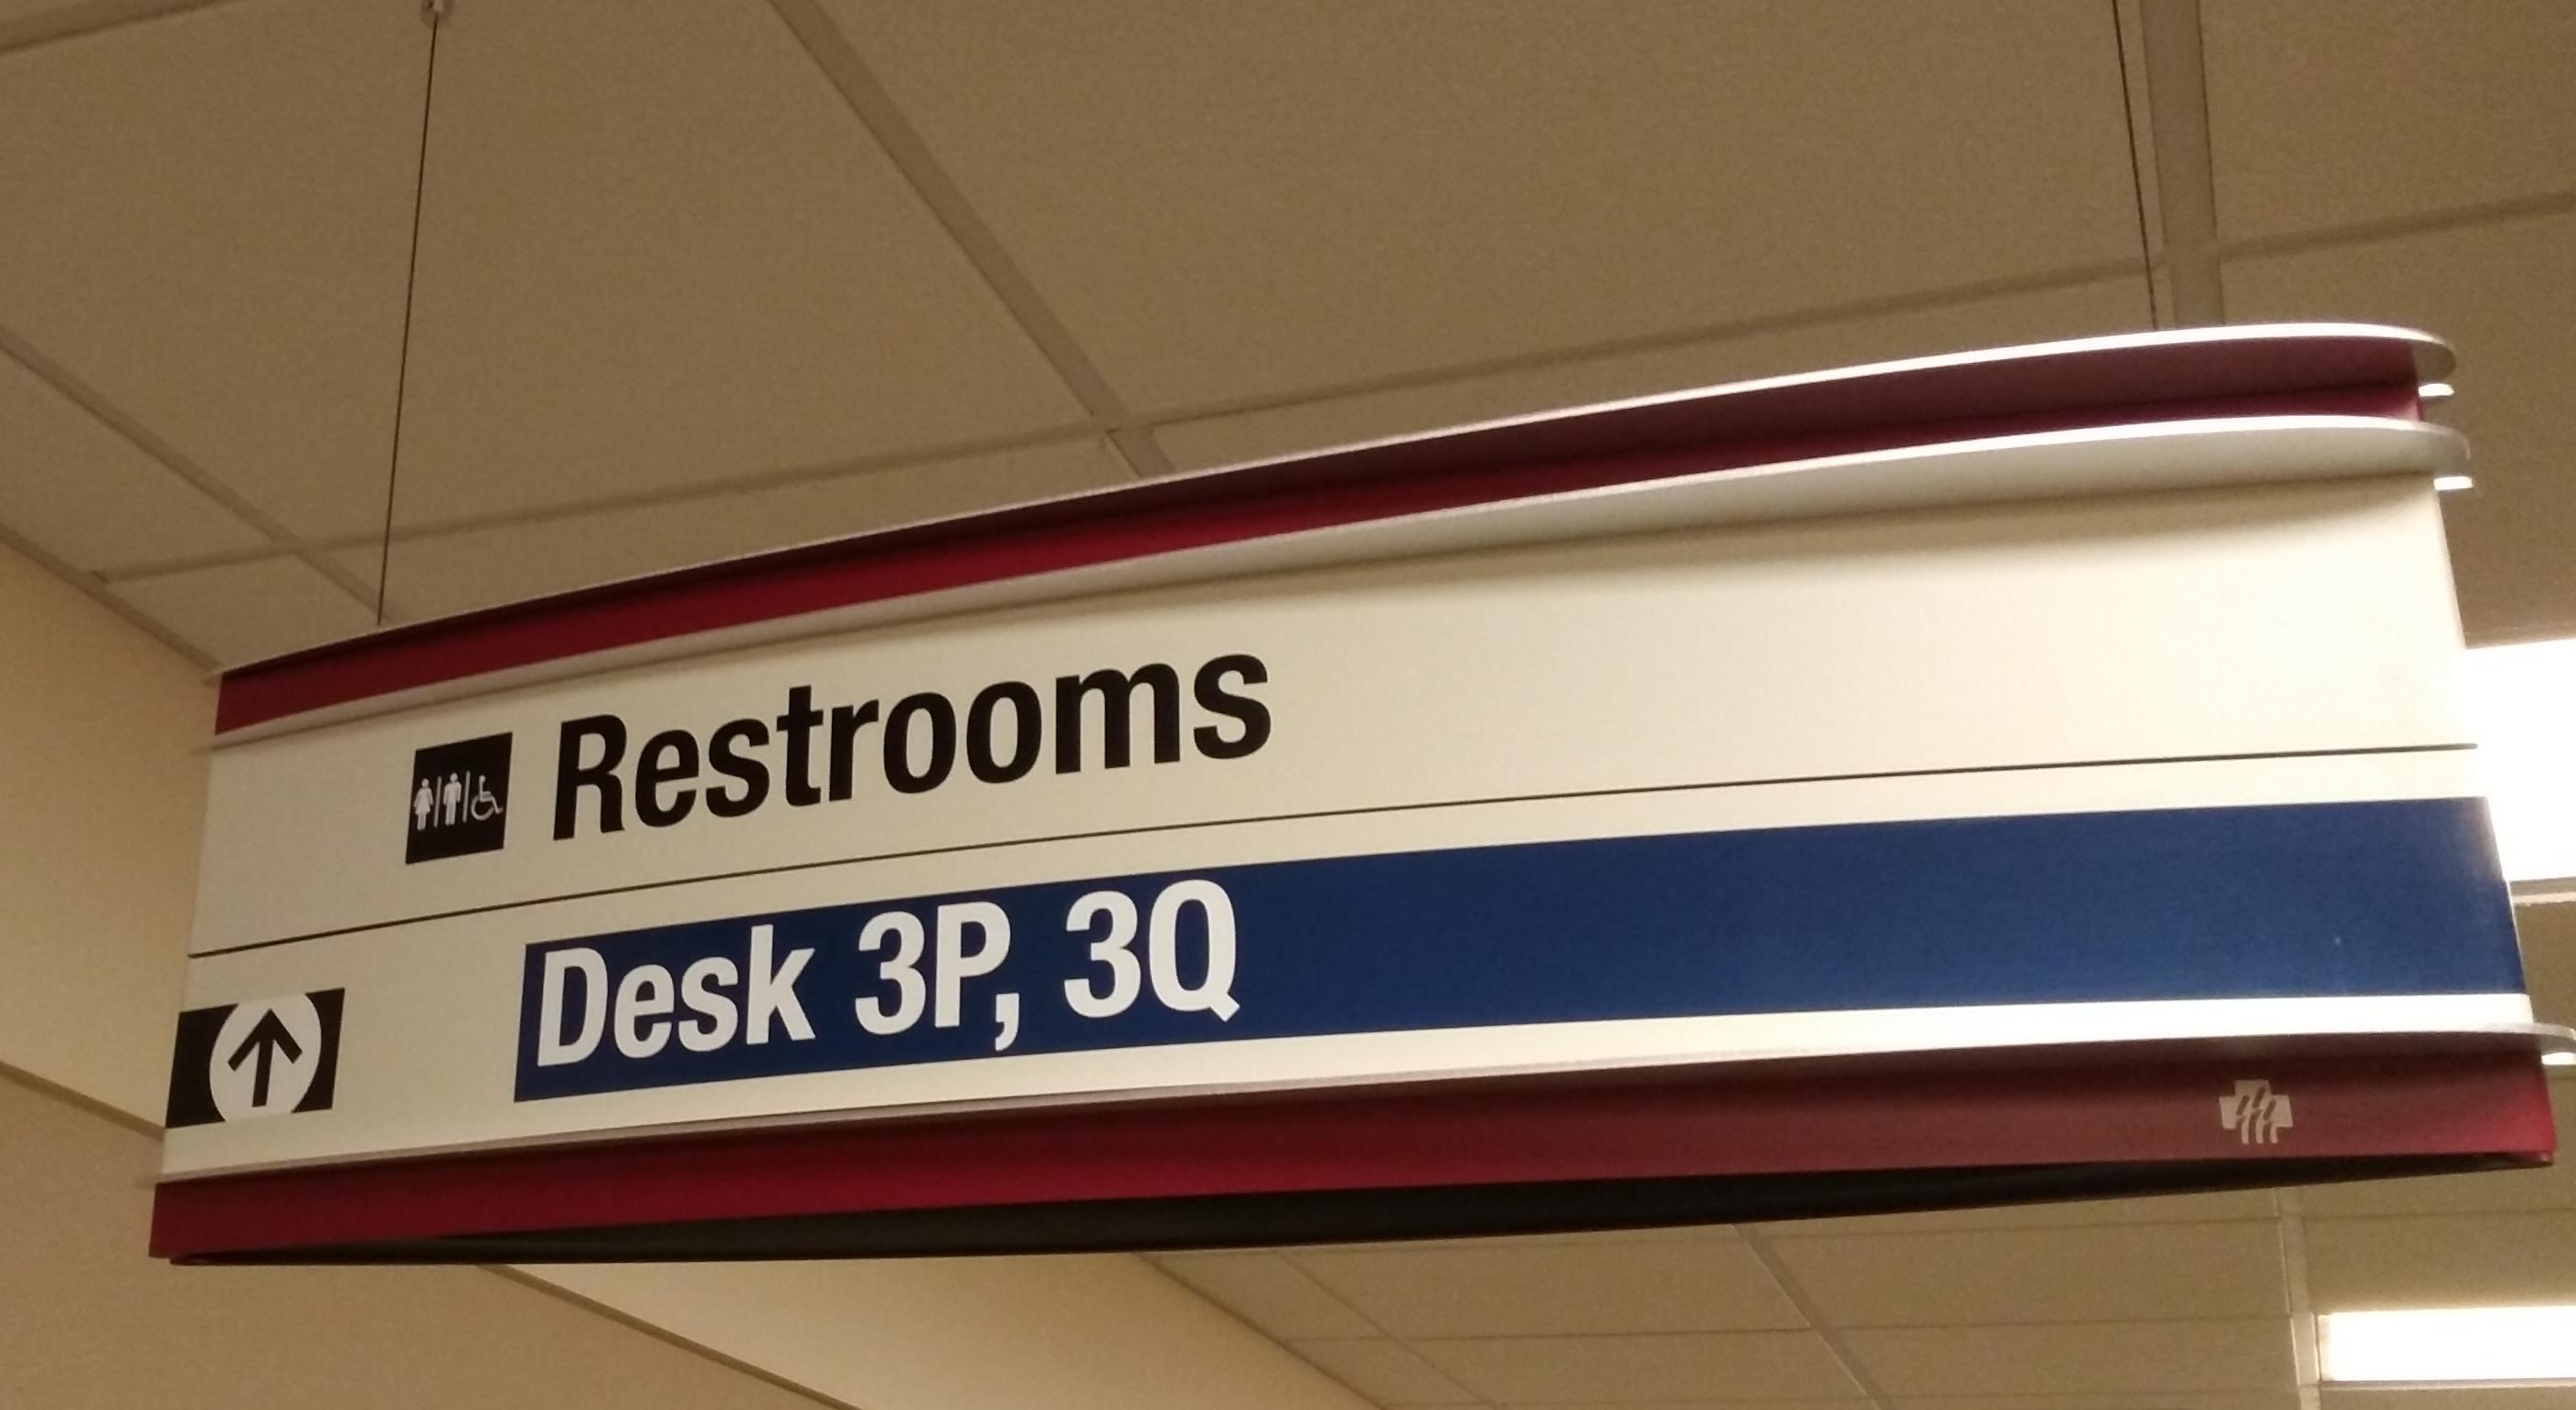sign: (158, 321, 2569, 1266)
